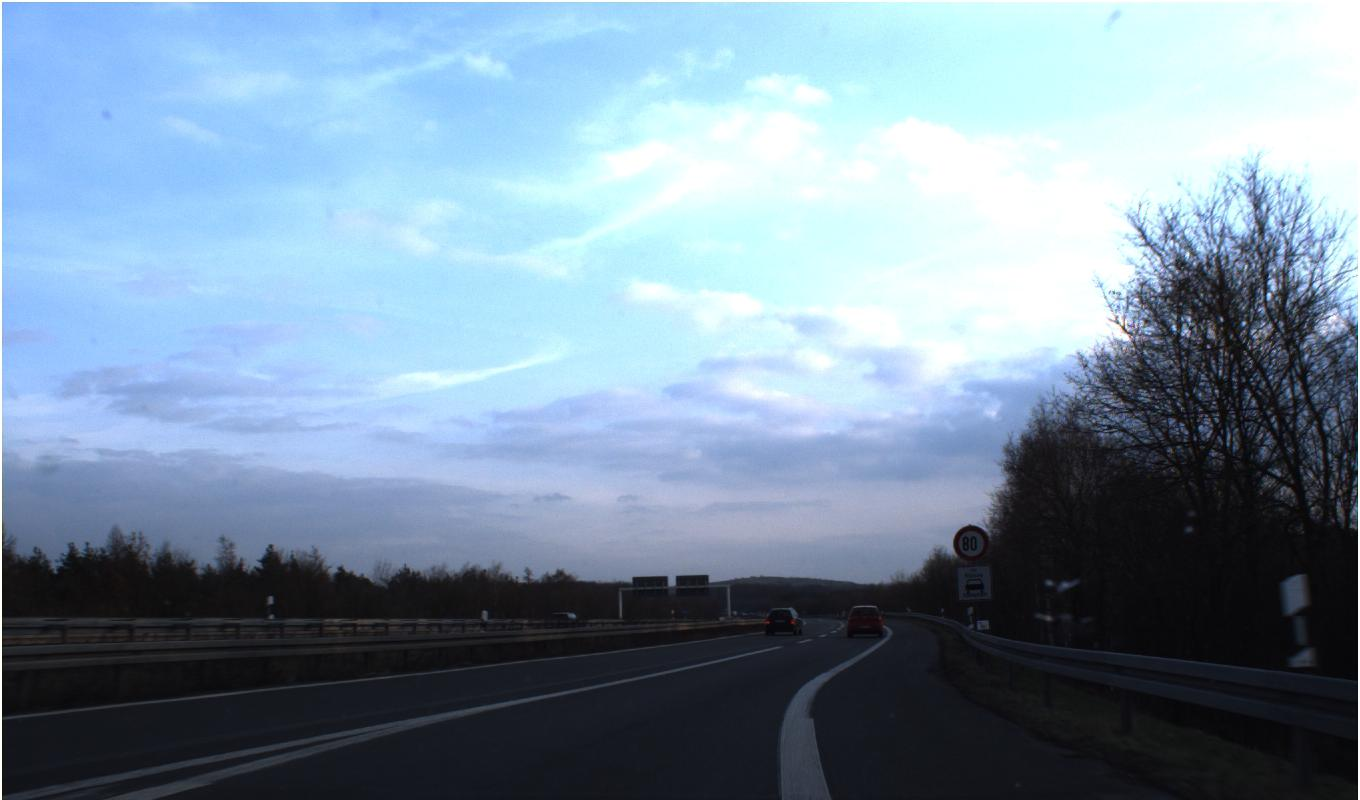prohibitory: (952, 524, 990, 562)
